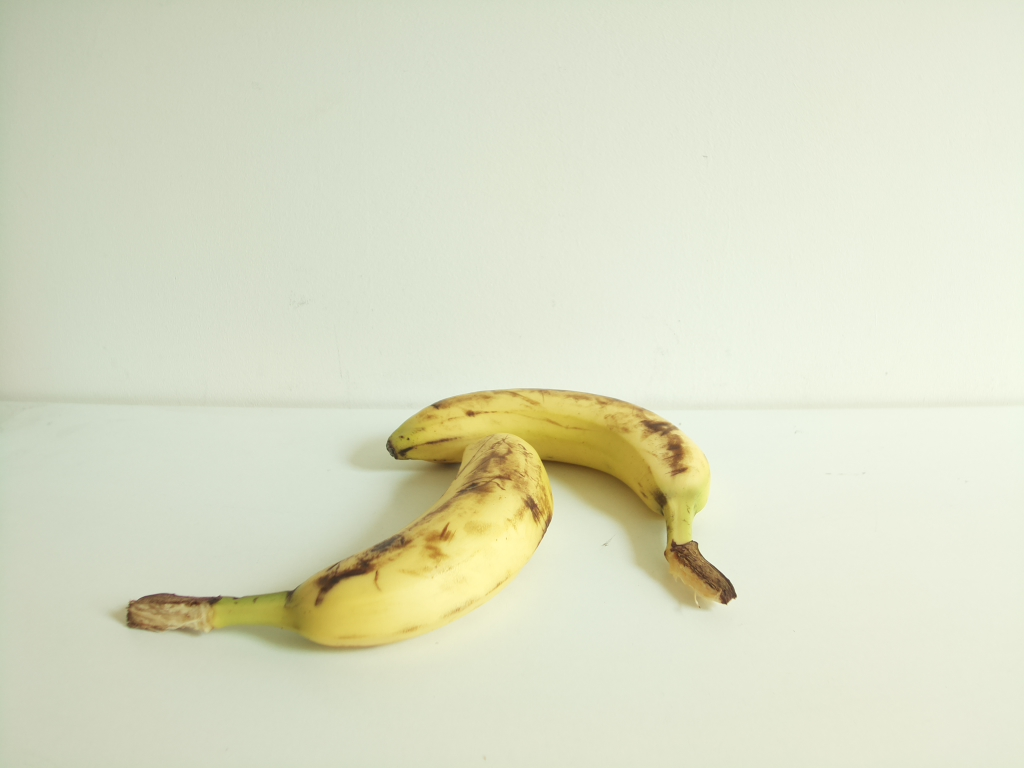banana: (124, 431, 554, 649), (387, 387, 738, 608)
